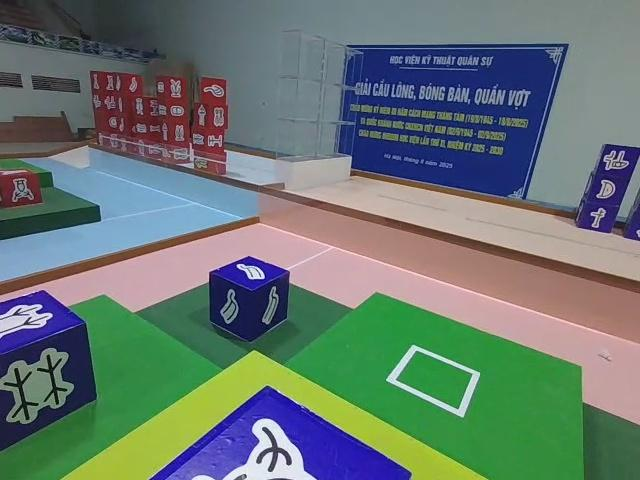R2 Real Blue: (160, 386, 416, 480), (3, 289, 100, 459), (206, 256, 289, 342)
